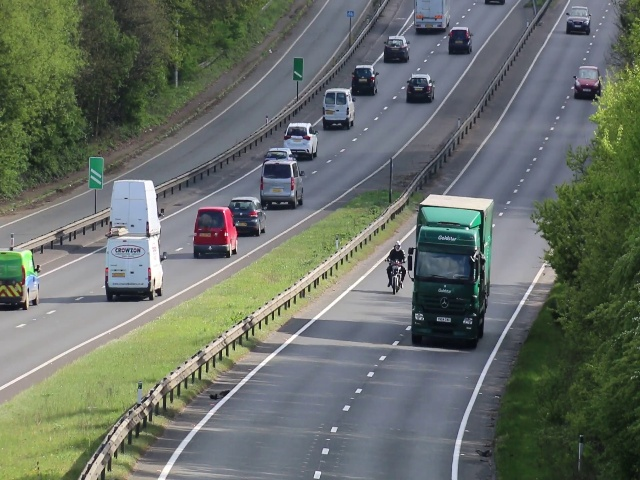car: (410, 239, 479, 346), (104, 238, 163, 301), (107, 179, 161, 230), (192, 208, 238, 260), (1, 251, 42, 307), (260, 161, 304, 206), (322, 88, 355, 131), (232, 199, 267, 237), (286, 124, 318, 159), (404, 72, 436, 104), (573, 65, 601, 100), (352, 62, 377, 97), (444, 26, 475, 52), (383, 36, 408, 63), (567, 7, 589, 36)
